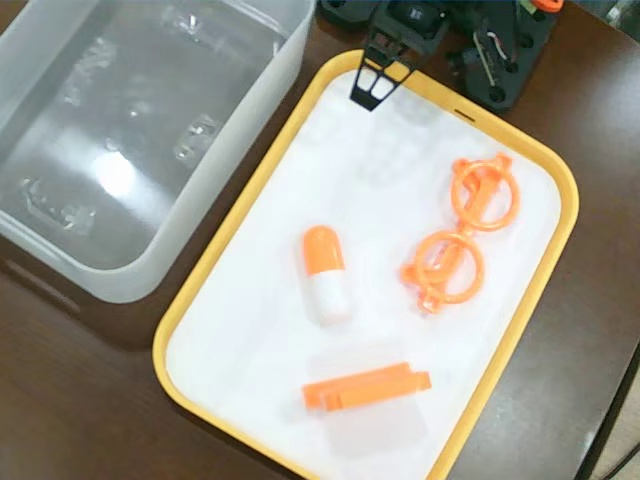pill: (299, 223, 353, 323)
